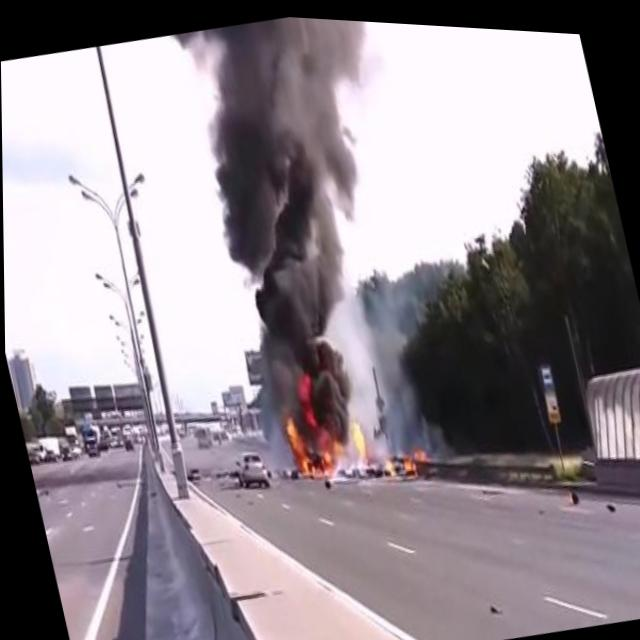fire: (264, 351, 378, 494), (375, 431, 430, 478)
